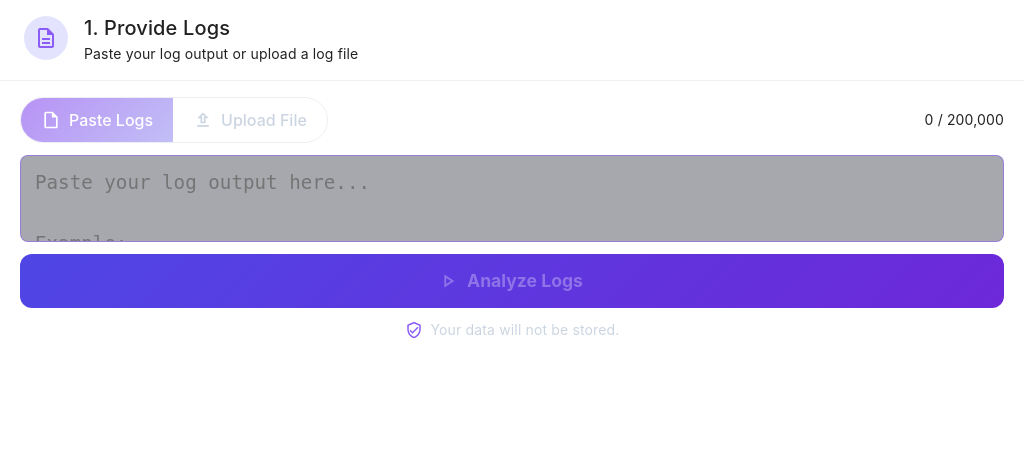
Test case: LogInputPanel › shows the file upload zone when Upload File tab is selected
The image size is (1024, 469).
Click the tab "Upload File".
click(250, 120)  # box [173, 98, 327, 142]
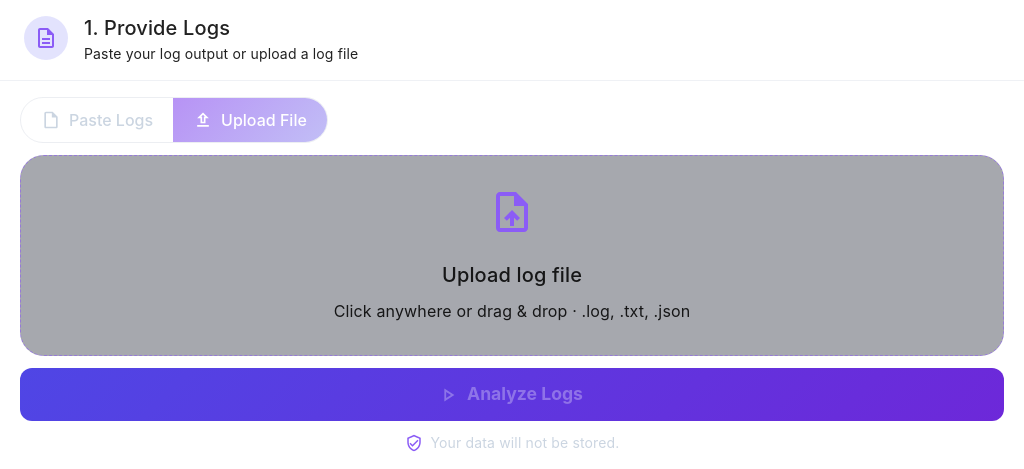
Check: the button labelled "Upload log file" is shown, box [20, 155, 1004, 356]
